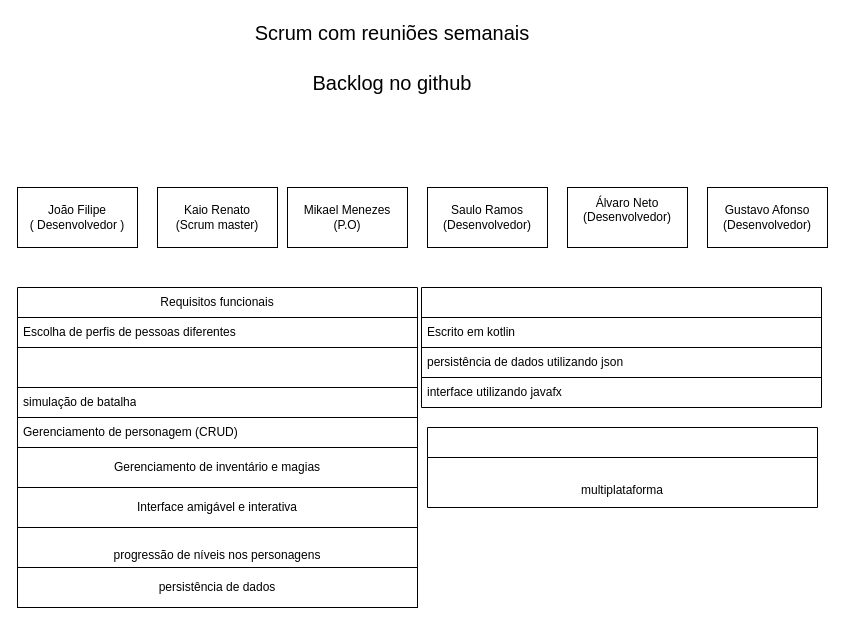
This 845x625 diagram has some shape labels left out. The box of each missing label's shape, as (x1, y1, x2, y2) in pixels:
criação de personagem levando em consideração raças e classes diferentes: (16, 346, 418, 388)
Requisito de sistemas: (420, 286, 822, 408)
Requisitos não funcionais: (426, 426, 818, 508)
